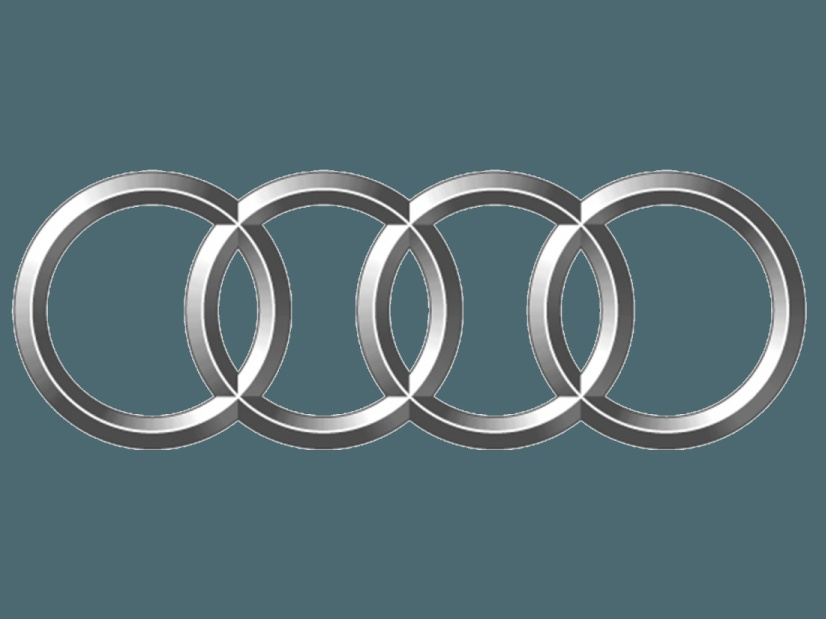audi: (8, 140, 816, 466)
